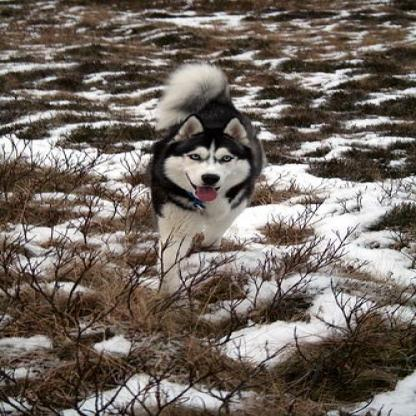Siberian_husky: (146, 60, 264, 288)
